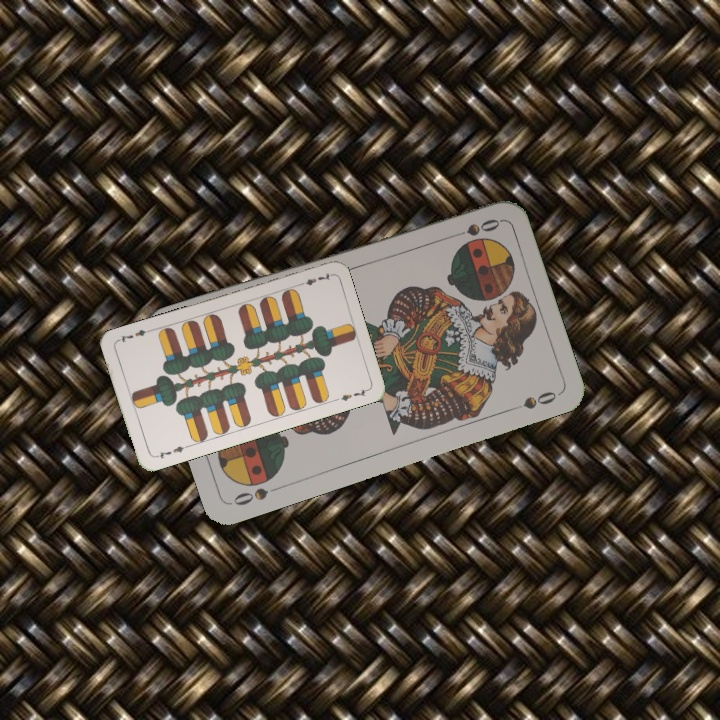E7: (294, 269, 334, 289), (150, 442, 190, 461)
SO: (444, 214, 503, 241), (229, 481, 285, 508)
